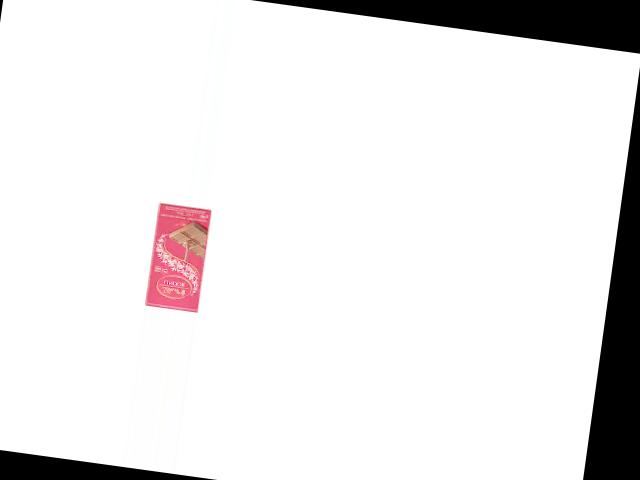chocolate: (142, 203, 217, 312)
